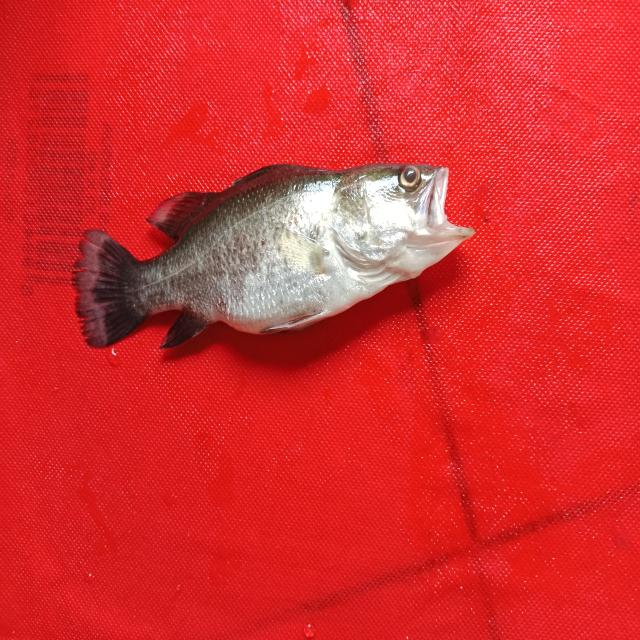ikan: (63, 139, 496, 383)
